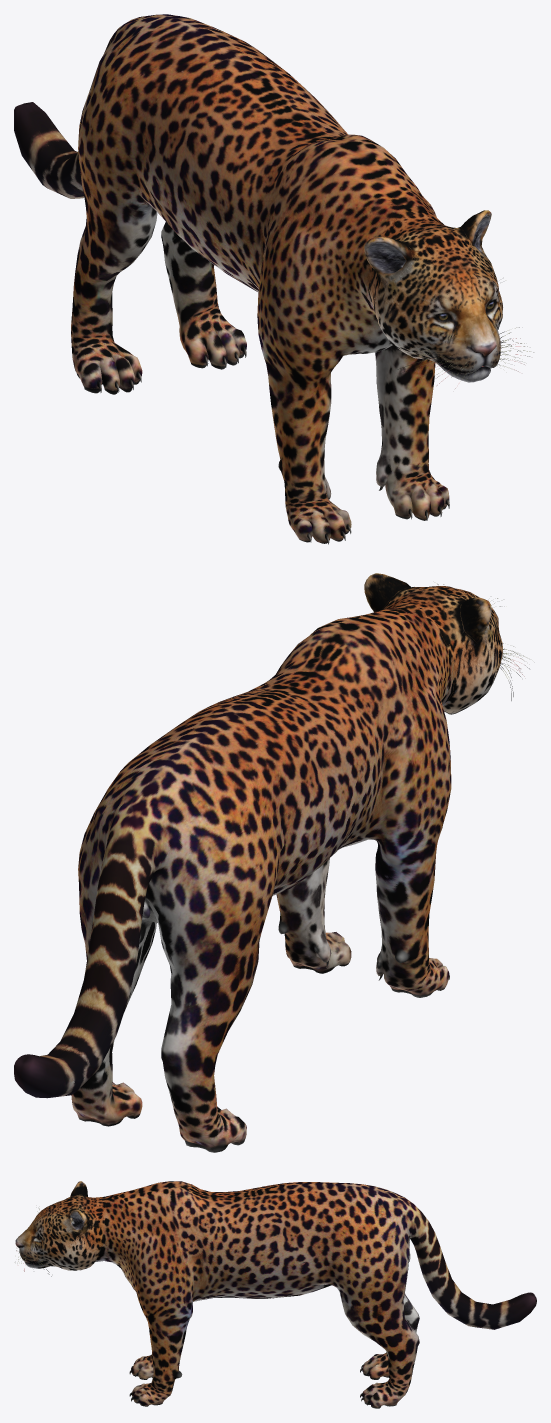
Rendered from Jaguar.fbx.
3 views of the same model, one above another, from view 1: azimuth 30°, elevation 25°; view 2: azimuth 150°, elevation 25°; view 3: azimuth 270°, elevation 25° (orthographic). The views are drawn at different scales.
Visible parts, largest first — view 1: Jaguar; view 2: Jaguar; view 3: Jaguar.
Boxes of the visible parts, x1,y1,x2,y2 form: Jaguar: (14, 14, 533, 544); Jaguar: (14, 573, 529, 1152); Jaguar: (15, 1181, 536, 1408).
Size of the model in its own units: 36.43 by 73.33 by 170.
Materials: 1 (1 with a texture image).
